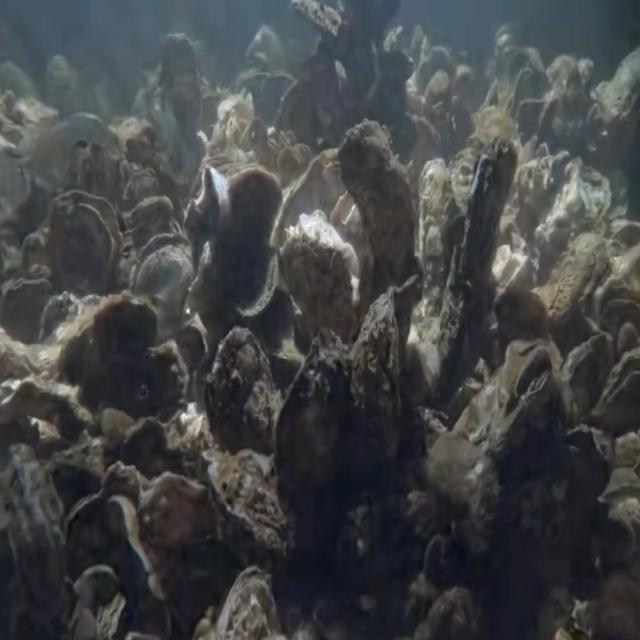Oyster-Closed: (338, 119, 416, 289), (204, 446, 297, 567), (213, 566, 281, 640), (0, 274, 61, 339)
Oyster-Indeterminate: (441, 138, 520, 367), (274, 323, 355, 518), (0, 440, 67, 639), (457, 337, 560, 455), (48, 295, 158, 403), (280, 209, 362, 347), (344, 290, 404, 471), (219, 161, 282, 326), (210, 325, 282, 455), (52, 188, 125, 299), (534, 231, 618, 325), (421, 159, 464, 324), (136, 336, 190, 417), (561, 332, 614, 414)
Oyster-Open: (130, 230, 195, 341), (191, 161, 229, 264), (594, 351, 640, 424)
